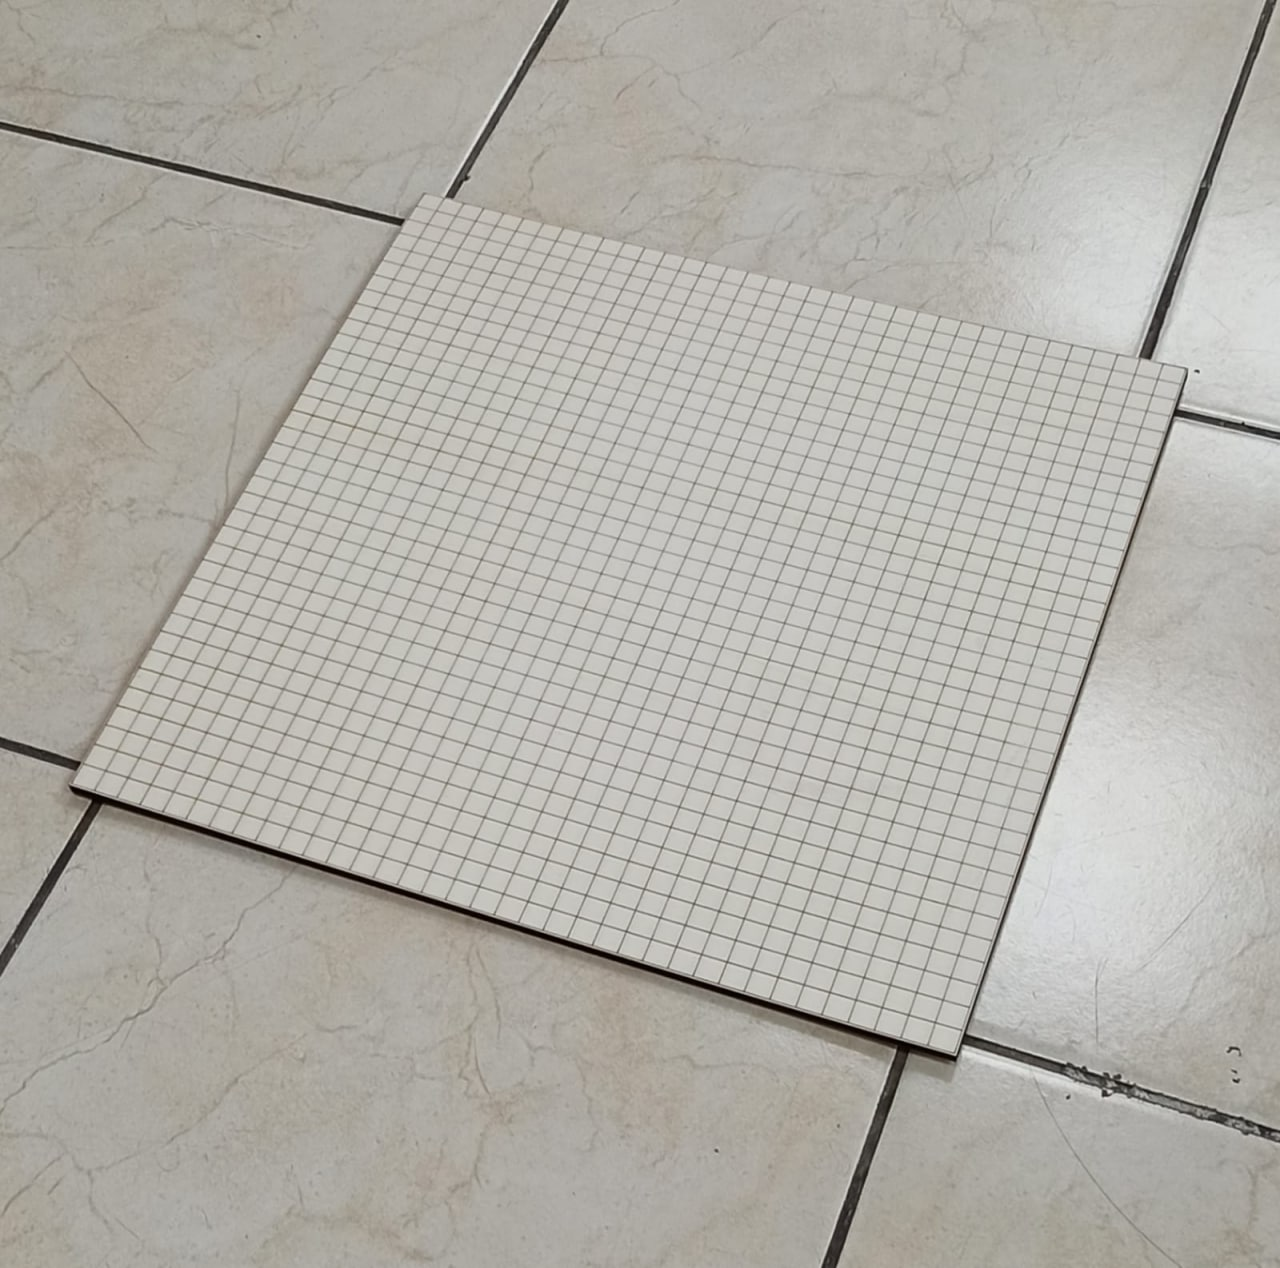grid: (60, 186, 1193, 1069)
